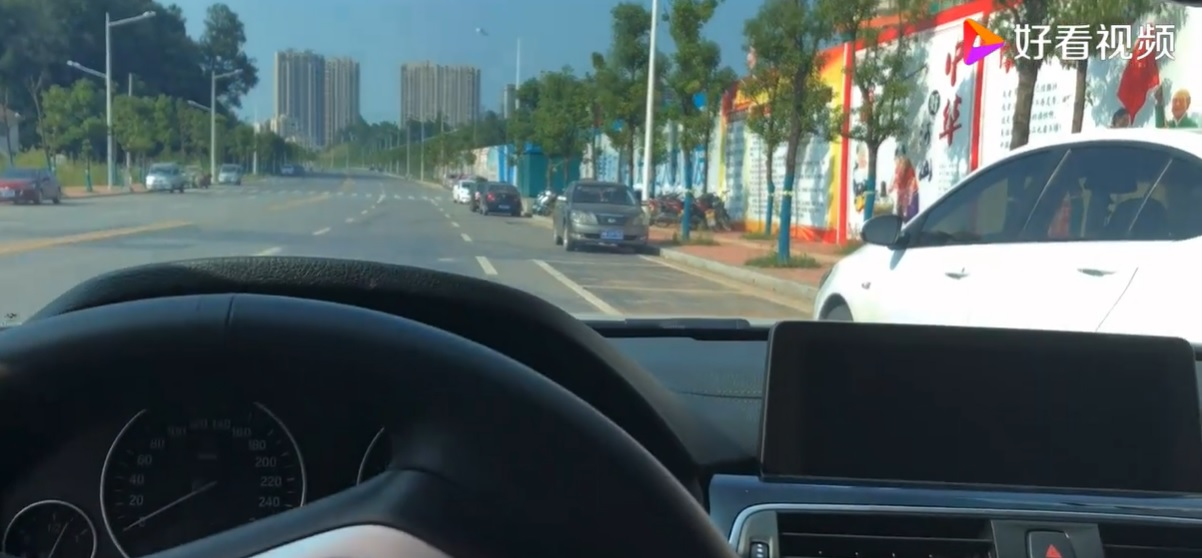slot_nocar: (516, 238, 775, 301)
